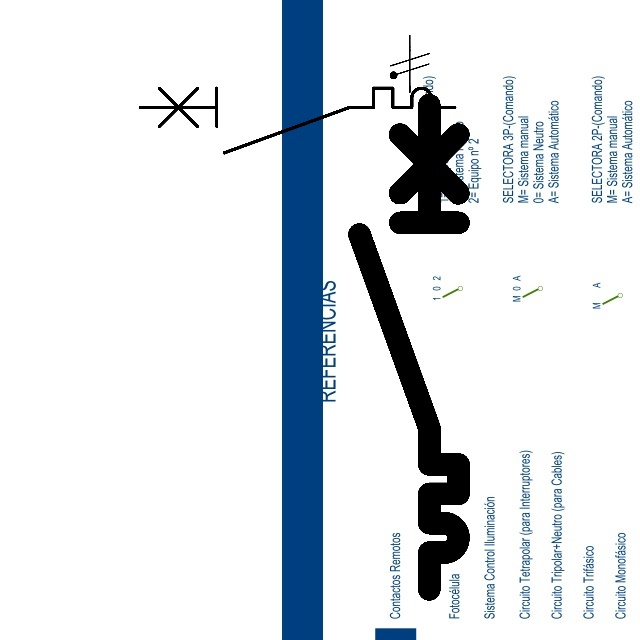interruptor_termomagnetico: (347, 92, 471, 601), (132, 80, 463, 161)
